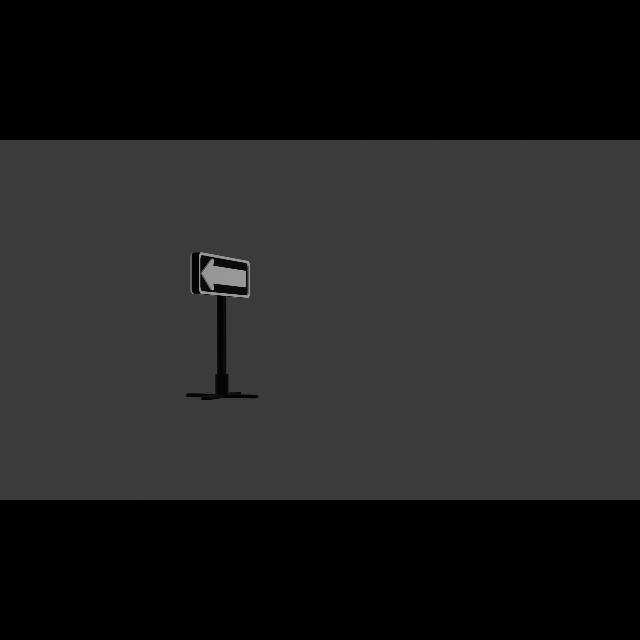sign_oneway_left: (195, 251, 251, 301)
